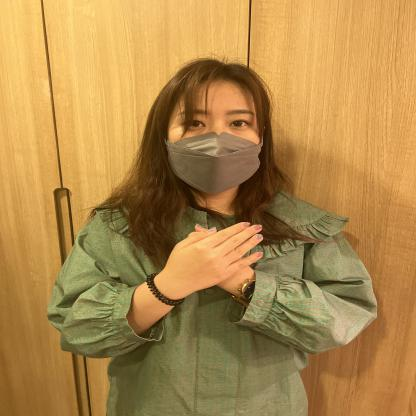Grieve: (54, 187, 415, 319)
